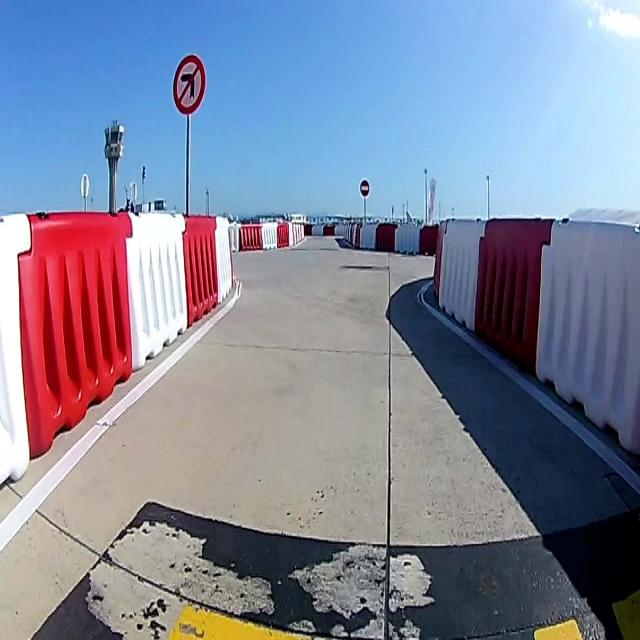girisyok: (360, 179, 370, 197)
soladonulmez: (172, 54, 207, 115)
